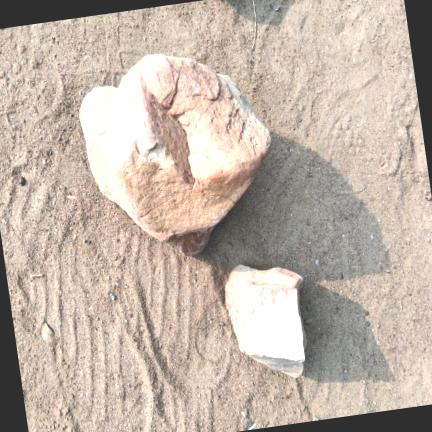Rocks: (79, 54, 269, 255), (225, 265, 304, 376)
